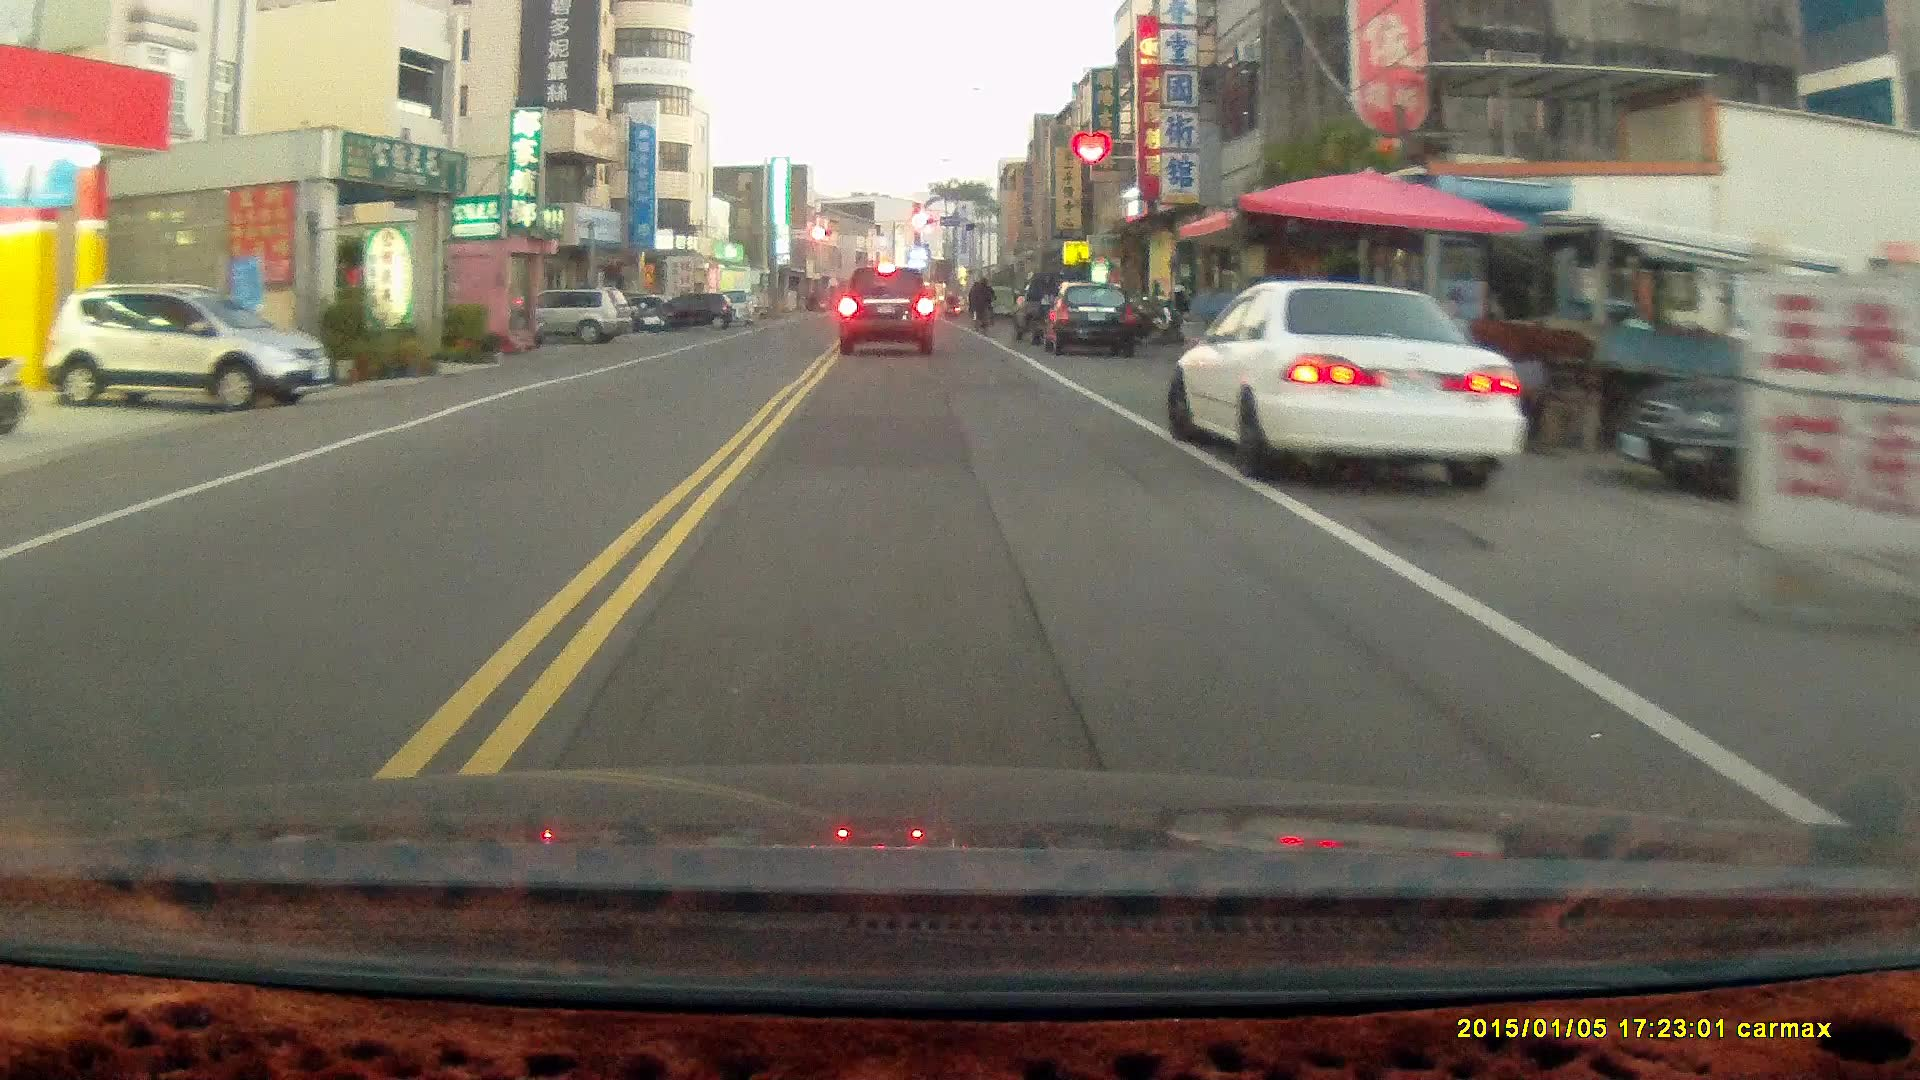rider: (969, 274, 997, 337)
vehicle: (1170, 277, 1525, 485), (48, 285, 326, 411), (841, 265, 936, 359), (1046, 282, 1144, 355), (531, 289, 632, 343)
